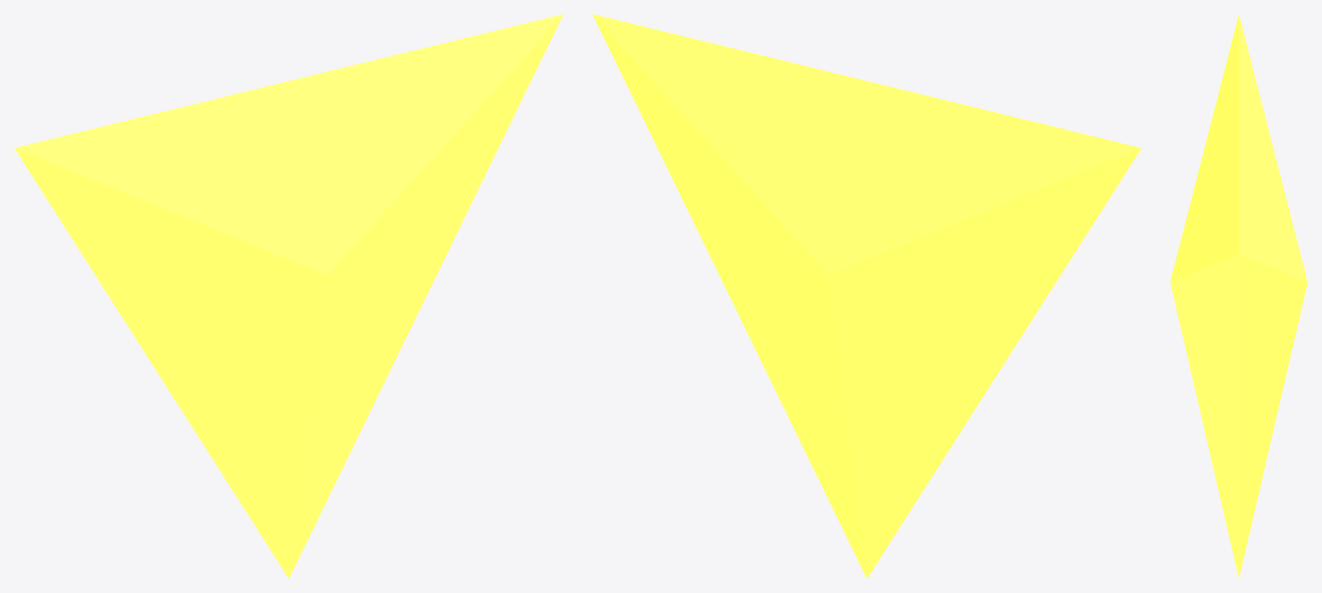
File: Triangle.fbx
3 renders of one model, left to right at view 1: azimuth 30°, elevation 25°; view 2: azimuth 150°, elevation 25°; view 3: azimuth 270°, elevation 25°, orthographic. The views are drawn at different scales.
Parts seen in each view (by area): view 1: Circle; view 2: Circle; view 3: Circle.
Boxes of the visible parts, x1,y1,x2,y2 form: Circle: (14,14,563,578); Circle: (592,14,1141,578); Circle: (1170,15,1307,577).
Size of the model in its own units: 173 by 150 by 42.05.
